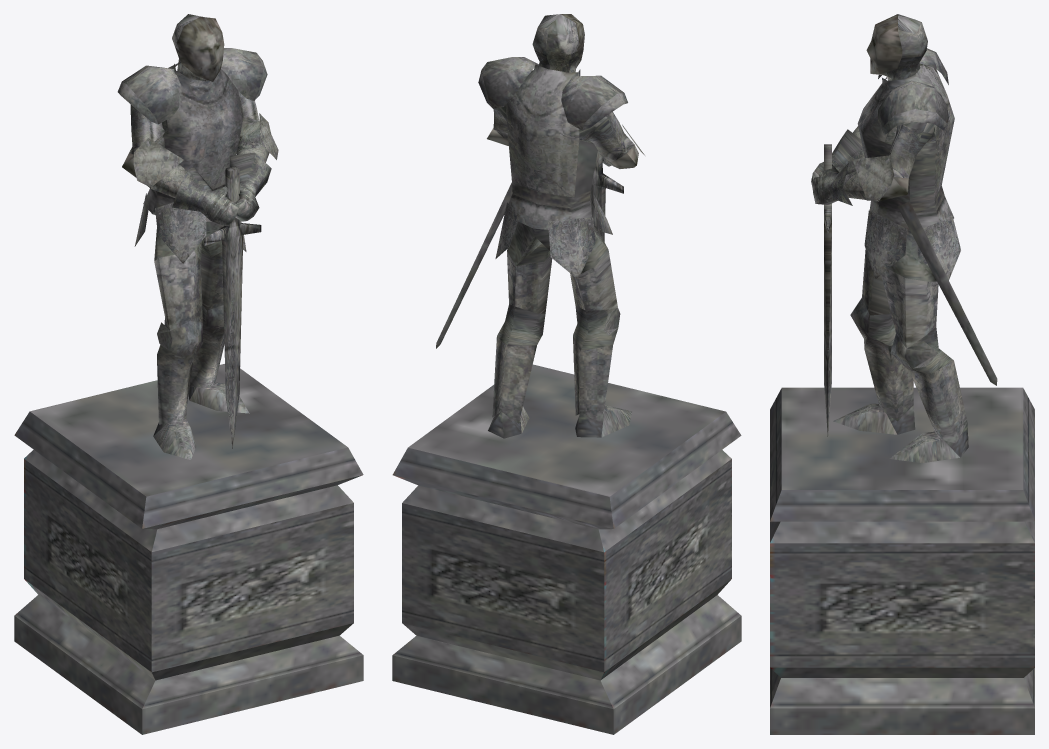
Rendered from building_statue_lord.glb.
3 views of the same model, side by side, from view 1: azimuth 30°, elevation 25°; view 2: azimuth 150°, elevation 25°; view 3: azimuth 270°, elevation 25° (orthographic). The views are drawn at different scales.
Visible parts, largest first — view 1: building_statue_lord; view 2: building_statue_lord; view 3: building_statue_lord.
Part boxes in pixels (x1,y1,x2,y2): building_statue_lord: [14, 14, 363, 734]; building_statue_lord: [392, 14, 741, 734]; building_statue_lord: [770, 14, 1034, 734].
Bounding box in the file's own units: 2 × 5.56 × 2.
2 materials, 2 textured.
